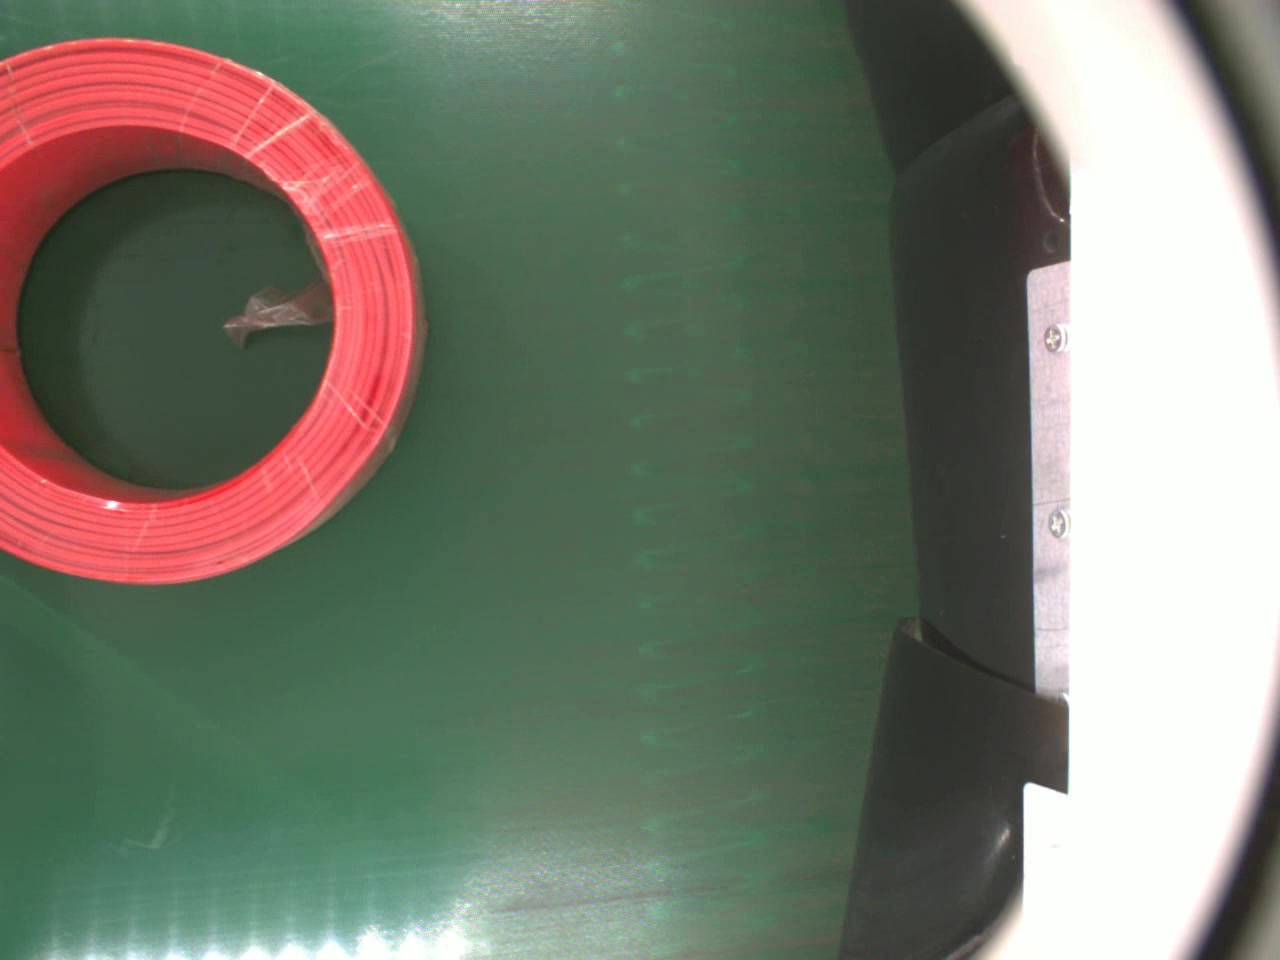red: (0, 32, 430, 583)
